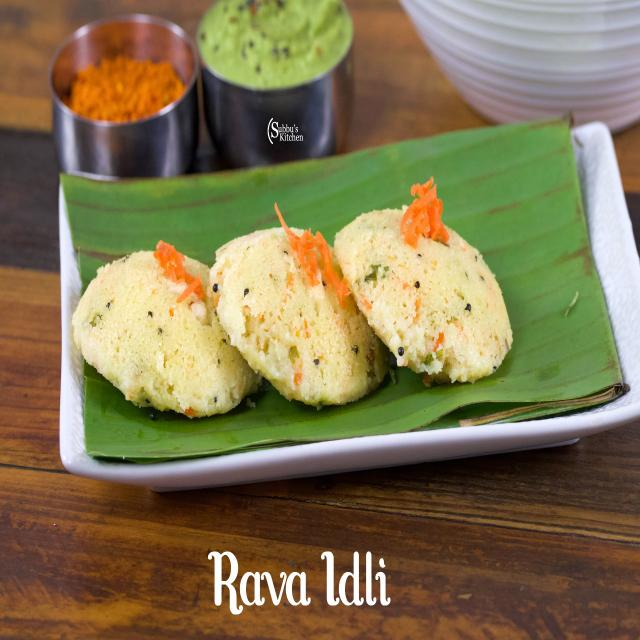Wet Waste: (69, 240, 259, 416), (204, 223, 394, 398), (328, 203, 514, 377), (205, 0, 340, 74)
